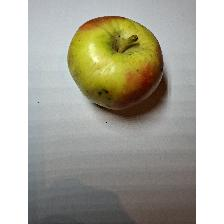Apfel: (64, 12, 166, 114)
